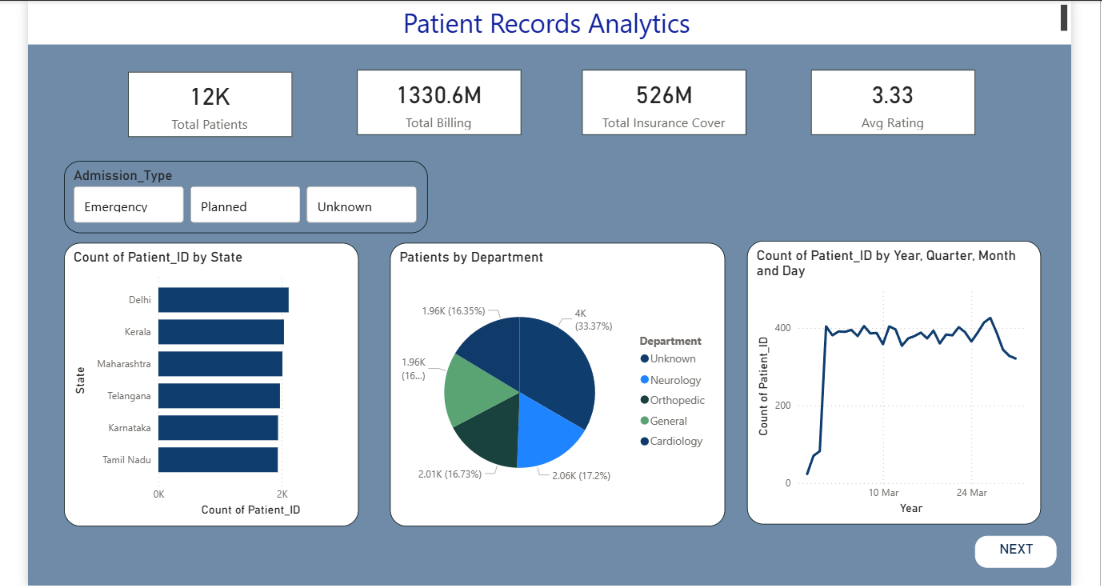

The dashboard page shown, as its layout file describes it:
{"tool":"powerbi","page":{"name":"Report1","canvas":[1280,720],"ordinal":0},"visuals":[{"type":"textbox","box":[0,0,1280.3,53.5],"z":0},{"type":"card","fields":{"Values":["Cleaned_Data.Total Patients"]},"box":[122.7,87.1,201.2,79.8],"z":1000},{"type":"card","fields":{"Values":["Cleaned_Data.Total Billing"]},"box":[403.7,84.7,201.2,79.8],"z":2000},{"type":"card","fields":{"Values":["Cleaned_Data.Total Insurance Cover"]},"box":[679.8,84.7,201.2,79.8],"z":3000},{"type":"card","fields":{"Values":["Cleaned_Data.Avg Rating"]},"box":[960.7,84.7,201.2,79.8],"z":4000},{"type":"lineChart","fields":{"Y":["CountNonNull(Cleaned_Data.Patient_ID)"],"Category":["Cleaned_Data.Admission_Date.Variation.Date Hierarchy.Year","Cleaned_Data.Admission_Date.Variation.Date Hierarchy.Quarter","Cleaned_Data.Admission_Date.Variation.Date Hierarchy.Month","Cleaned_Data.Admission_Date.Variation.Date Hierarchy.Day"]},"box":[881.7,294.4,360.6,347.9],"z":5000},{"type":"pieChart","title":"Patients by Department","fields":{"Category":["Cleaned_Data.Department"],"Y":["CountNonNull(Cleaned_Data.Patient_ID)"]},"box":[443.7,297.2,411.3,347.9],"z":6000},{"type":"clusteredBarChart","fields":{"Category":["Cleaned_Data.State"],"Y":["CountNonNull(Cleaned_Data.Patient_ID)"]},"box":[43.7,297.2,362,347.9],"z":7000},{"type":"actionButton","title":"NEXT","box":[1168,656,96,48],"z":8000},{"type":"advancedSlicerVisual","fields":{"Values":["Cleaned_Data.Admission_Type"]},"box":[43.7,195.8,446.5,88.7],"z":9000}]}

Visuals, with their boxes on the page's 1280x720 design canvas (x1, y1, x2, y2). These are canvas units, not pixel positions in the 1102x586 screenshot, which may show the page scaled, cropped or inside an application window:
textbox: left=0, top=0, right=1280, bottom=54
card - Cleaned_Data.Total Patients: left=123, top=87, right=324, bottom=167
card - Cleaned_Data.Total Billing: left=404, top=85, right=605, bottom=164
card - Cleaned_Data.Total Insurance Cover: left=680, top=85, right=881, bottom=164
card - Cleaned_Data.Avg Rating: left=961, top=85, right=1162, bottom=164
lineChart - CountNonNull(Cleaned_Data.Patient_ID) x Cleaned_Data.Admission_Date.Variation.Date Hierarchy.Year: left=882, top=294, right=1242, bottom=642
"Patients by Department" pieChart: left=444, top=297, right=855, bottom=645
clusteredBarChart - Cleaned_Data.State x CountNonNull(Cleaned_Data.Patient_ID): left=44, top=297, right=406, bottom=645
"NEXT" actionButton: left=1168, top=656, right=1264, bottom=704
advancedSlicerVisual - Cleaned_Data.Admission_Type: left=44, top=196, right=490, bottom=284
